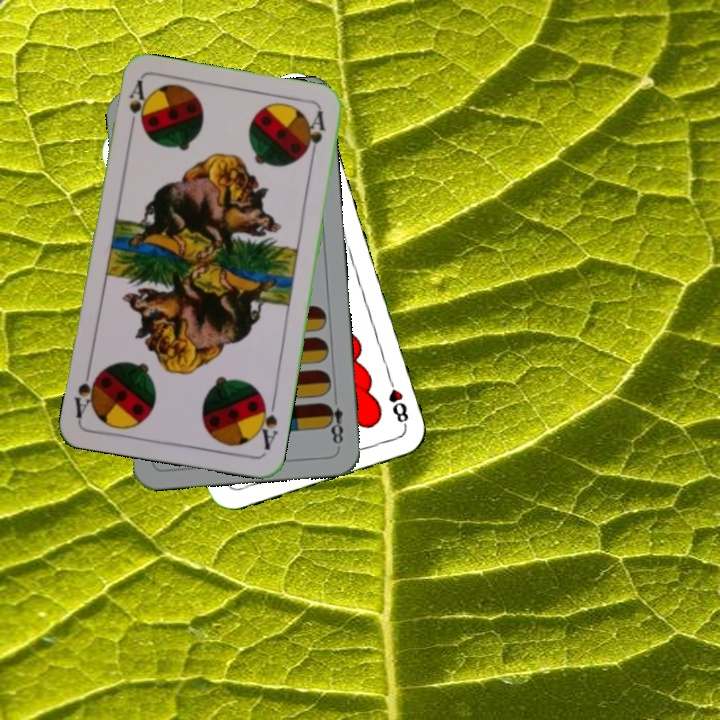E8: (321, 391, 346, 450)
H8: (383, 372, 411, 429)
SA: (252, 393, 281, 453), (125, 77, 150, 136)
